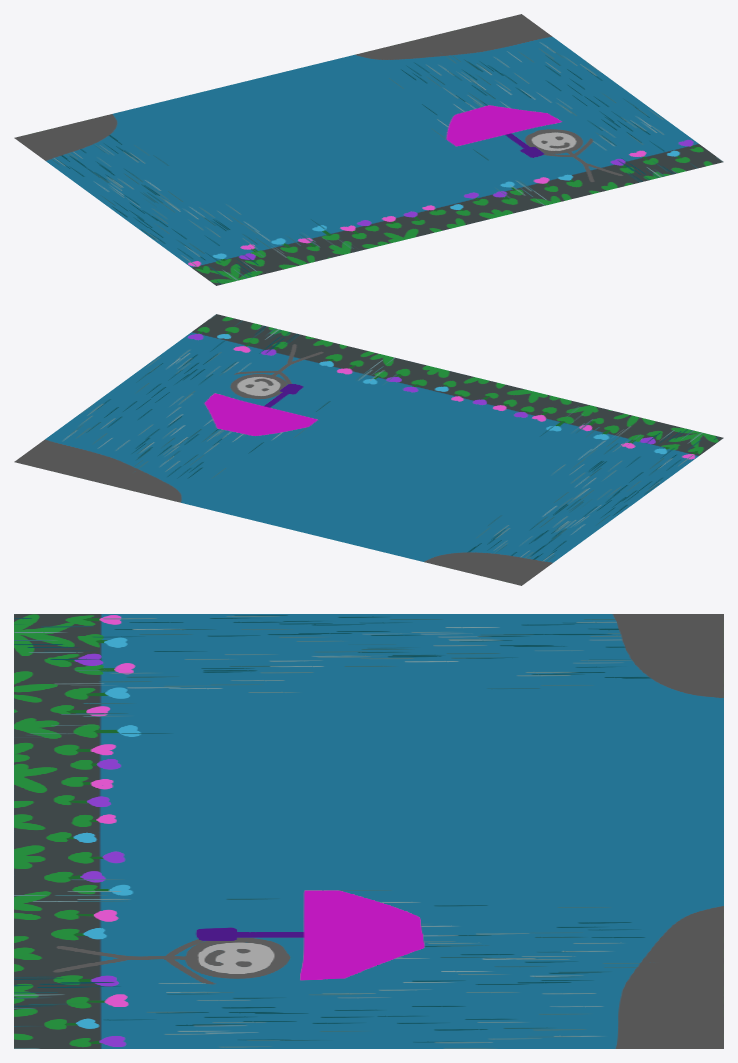
The model's file is SpringAnim12.fbx.
3 renders of one model, top to bottom at view 1: azimuth 30°, elevation 25°; view 2: azimuth 150°, elevation 25°; view 3: azimuth 270°, elevation 25°, orthographic. The views are drawn at different scales.
Parts seen in each view (by area): view 1: pPlane1; view 2: pPlane1; view 3: pPlane1.
Part boxes in pixels (left/top/right/bottom): pPlane1: left=14, top=14, right=723, bottom=285; pPlane1: left=14, top=314, right=723, bottom=585; pPlane1: left=14, top=614, right=723, bottom=1048.
Size of the model in its own units: 7.78 by 5.08e-16 by 5.37.
Materials: 1 (1 with a texture image).
